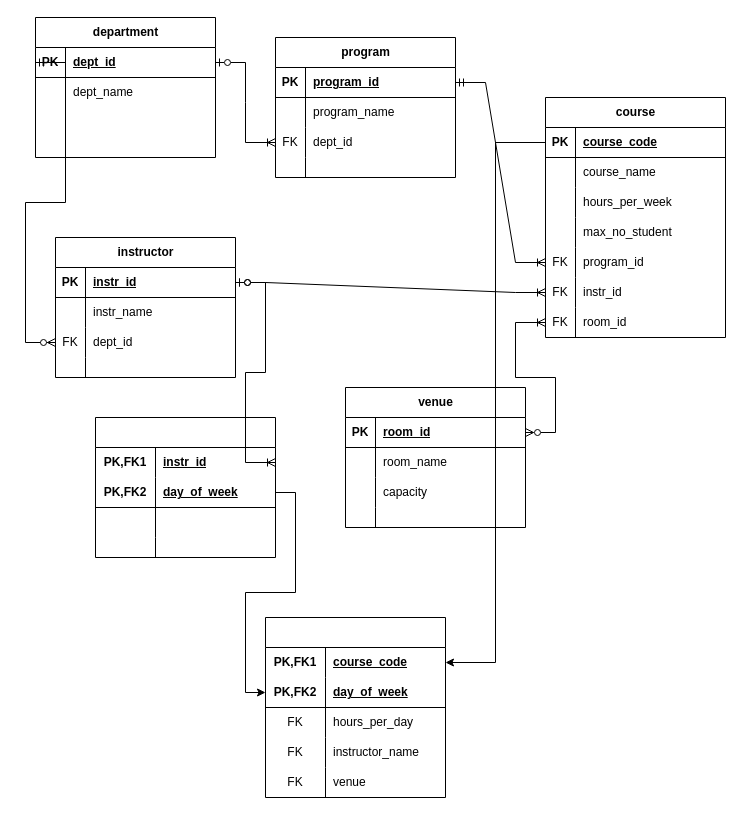
Image size: 743x815. Some labels were removed from this diagram. The box of each missing label's shape, as (x1, y1, x2, y2) in pixels:
Table: (94, 416, 276, 558)
time_table: (264, 616, 446, 798)
